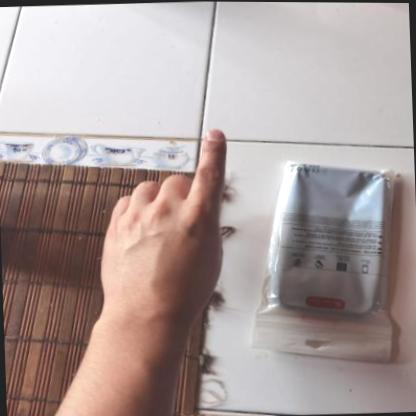T: (88, 115, 239, 331)
